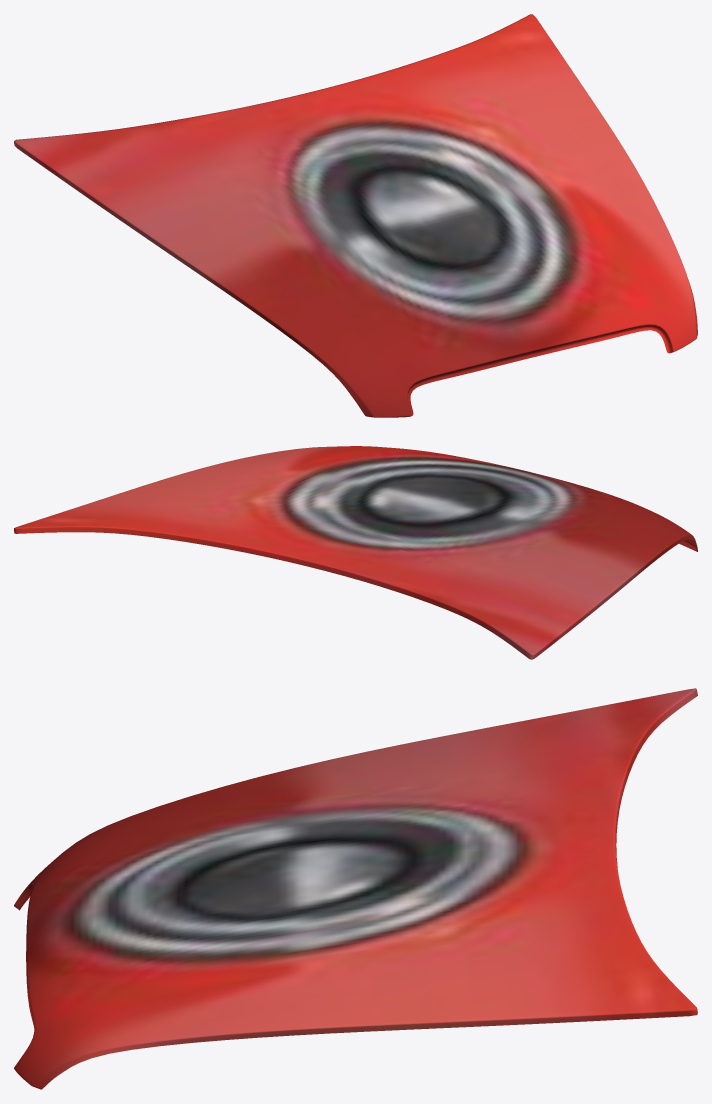
The model's file is cofrePractica06.obj.
The picture shows the model from 3 angles, top to bottom: view 1: azimuth 30°, elevation 25°; view 2: azimuth 150°, elevation 25°; view 3: azimuth 270°, elevation 25°; orthographic projection. The views are drawn at different scales.
Visible parts, largest first — view 1: Audi_A6.005; view 2: Audi_A6.005; view 3: Audi_A6.005.
Boxes of the visible parts, x1,y1,x2,y2 form: Audi_A6.005: (14, 14, 697, 417); Audi_A6.005: (14, 446, 697, 659); Audi_A6.005: (14, 688, 697, 1089).
Size of the model in its own units: 24.19 by 5.33 by 21.78.
Materials: 1 (1 with a texture image).
